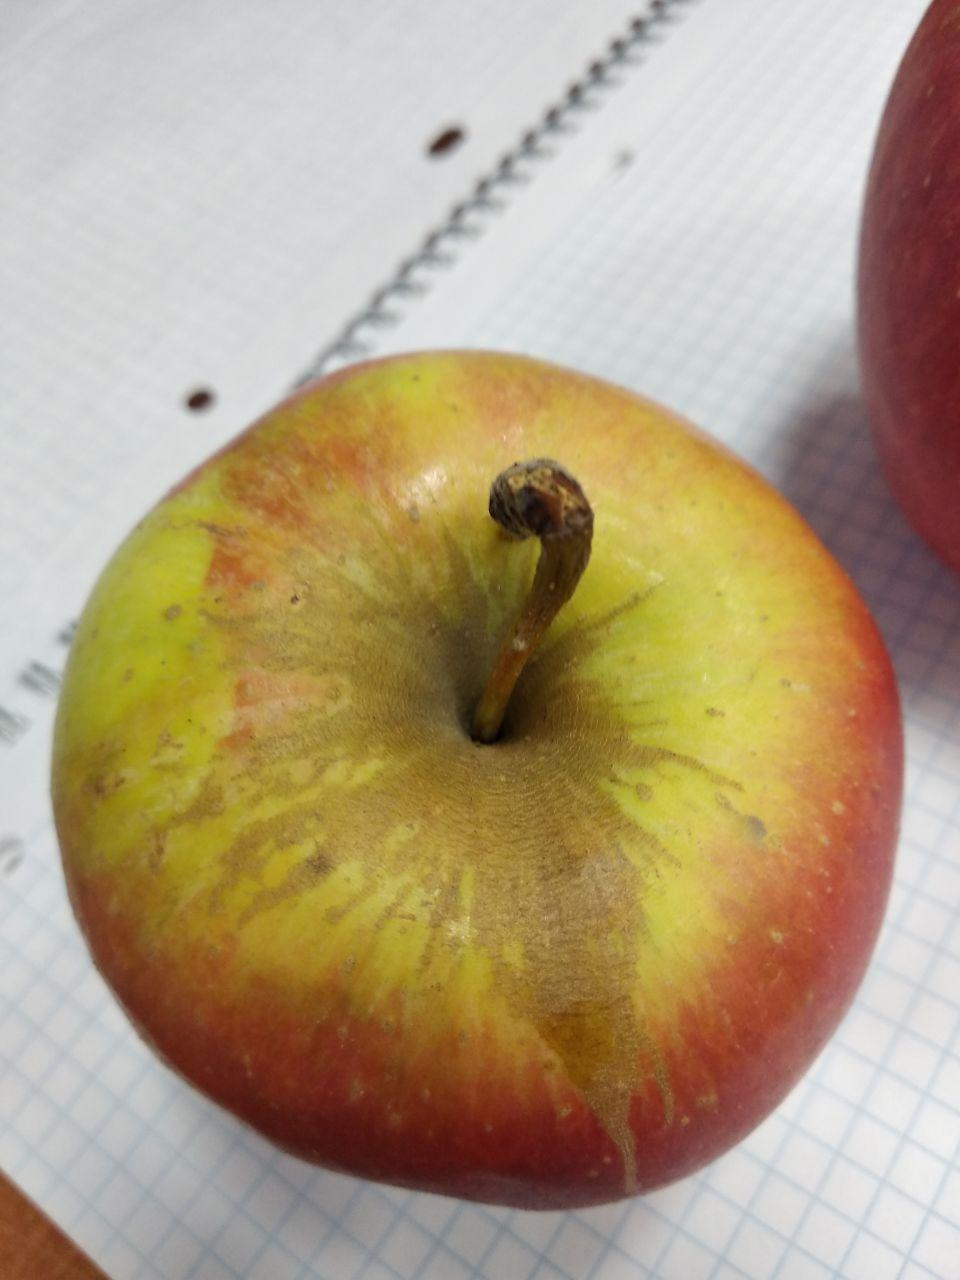Apple: (46, 348, 897, 1210)
